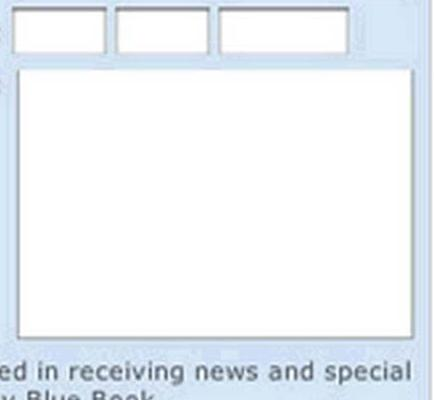field: (9, 67, 414, 341), (217, 8, 348, 57), (112, 7, 211, 57), (8, 7, 106, 57)
